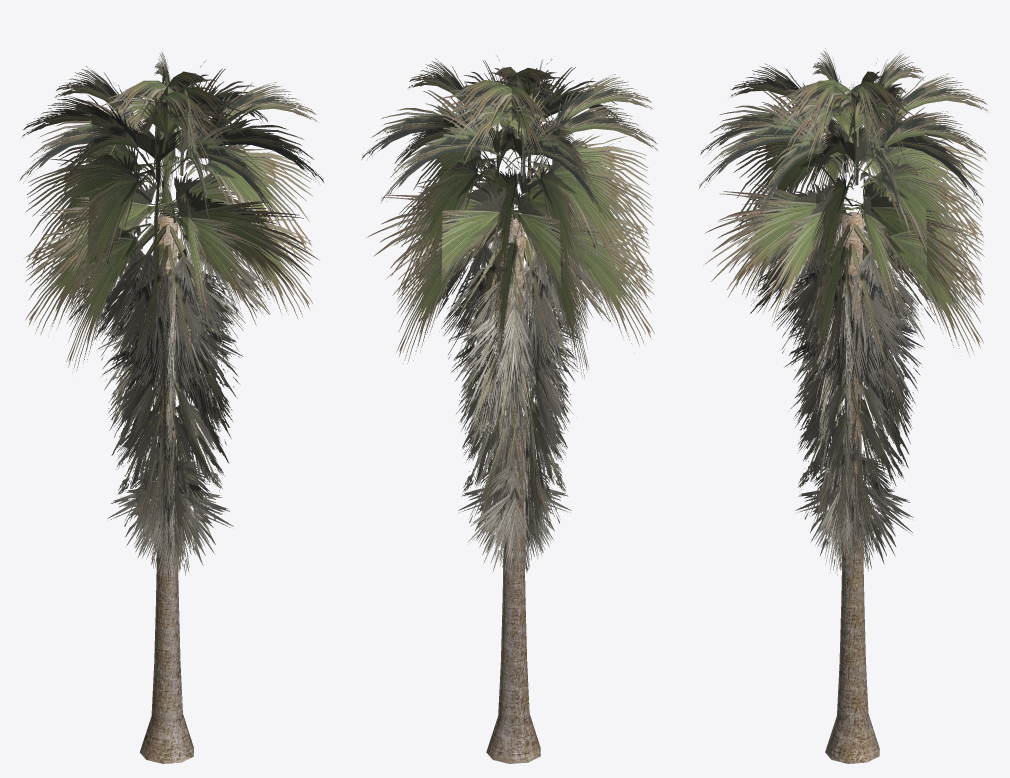
The model's file is S_Palm_2_1.fbx.
The picture shows the model from 3 angles, left to right: view 1: azimuth 30°, elevation 25°; view 2: azimuth 150°, elevation 25°; view 3: azimuth 270°, elevation 25°; orthographic projection.
Visible parts, largest first — view 1: Atlas_1, Atlas_0; view 2: Atlas_1, Atlas_0; view 3: Atlas_1, Atlas_0.
Boxes of the visible parts, left/top/right/bottom form: Atlas_1: left=19, top=52, right=323, bottom=579; Atlas_0: left=140, top=214, right=193, bottom=763; Atlas_1: left=361, top=56, right=658, bottom=577; Atlas_0: left=486, top=213, right=540, bottom=763; Atlas_1: left=698, top=48, right=987, bottom=578; Atlas_0: left=825, top=212, right=879, bottom=763.
Size of the model in its own units: 272 by 663 by 268.
Materials: 1 (1 with a texture image).
